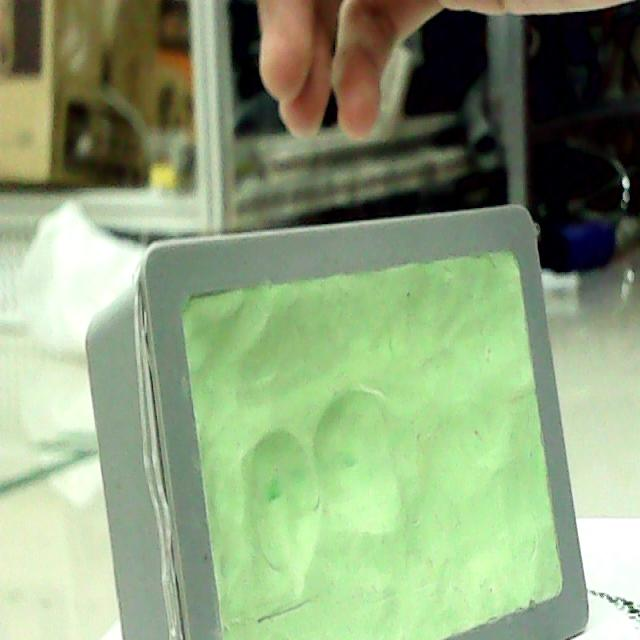block: (84, 208, 586, 640)
